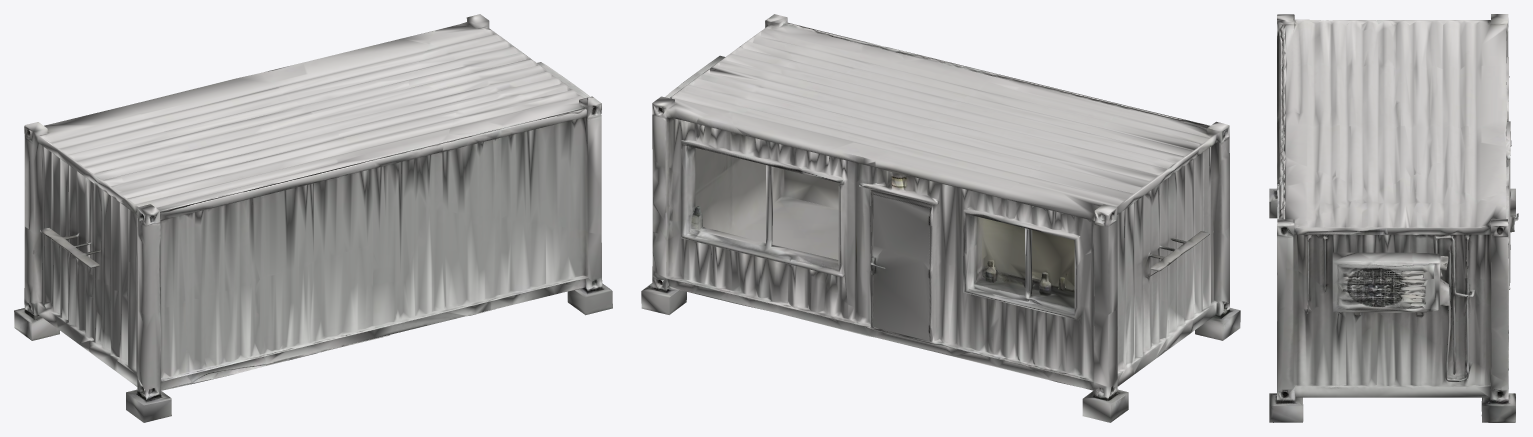
Rendered from conteiner_lod0.glb.
The picture shows the model from 3 angles, left to right: view 1: azimuth 30°, elevation 25°; view 2: azimuth 150°, elevation 25°; view 3: azimuth 270°, elevation 25°; orthographic projection. The views are drawn at different scales.
Visible parts, largest first — view 1: tripo_node_edb34709-0c02-4439-be9a-5c358a558f09; view 2: tripo_node_edb34709-0c02-4439-be9a-5c358a558f09; view 3: tripo_node_edb34709-0c02-4439-be9a-5c358a558f09.
Part boxes in pixels (x1,y1,x2,y2): tripo_node_edb34709-0c02-4439-be9a-5c358a558f09: (14, 14, 612, 422); tripo_node_edb34709-0c02-4439-be9a-5c358a558f09: (641, 14, 1240, 422); tripo_node_edb34709-0c02-4439-be9a-5c358a558f09: (1269, 14, 1518, 422).
Size of the model in its own units: 6.06 by 2.36 by 2.75.
1 material, 1 textured.
